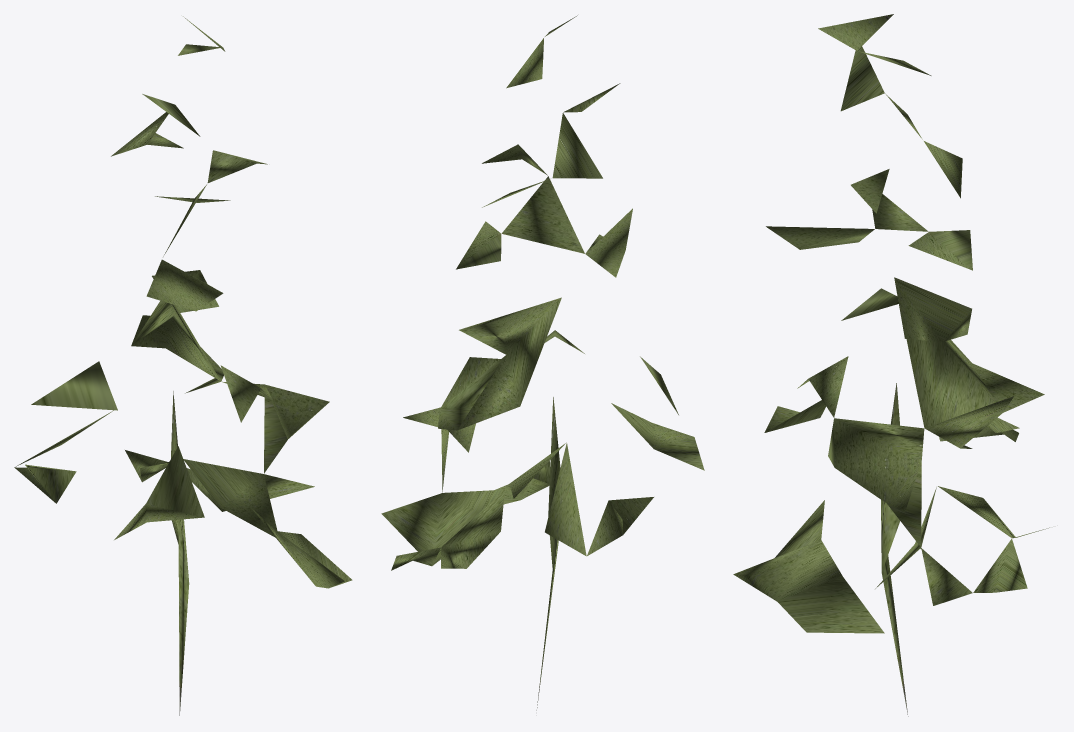
The model's file is abies-fabri-l4.glb.
3 views of the same model, side by side, from view 1: azimuth 30°, elevation 25°; view 2: azimuth 150°, elevation 25°; view 3: azimuth 270°, elevation 25° (orthographic). The views are drawn at different scales.
Visible parts, largest first — view 1: geometry_0; view 2: geometry_0; view 3: geometry_0.
Part boxes in pixels (x1,y1,x2,y2): geometry_0: [14, 16, 352, 715]; geometry_0: [381, 15, 704, 710]; geometry_0: [733, 14, 1049, 716].
Size of the model in its own units: 3.18 by 7.26 by 3.07.
1 material, 1 textured.
